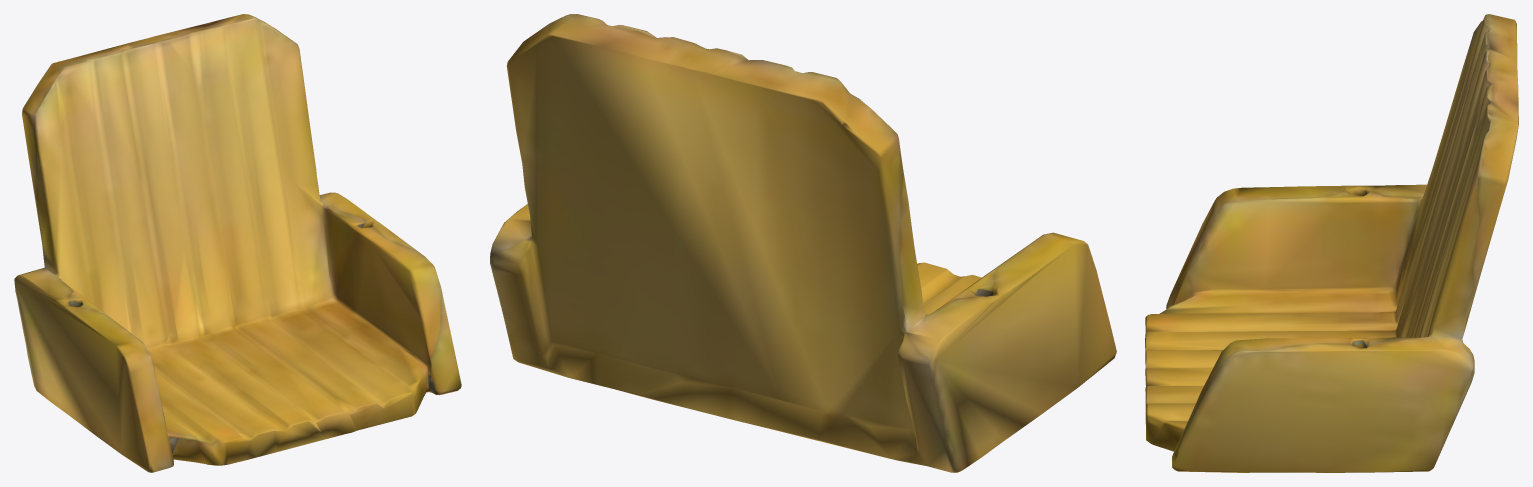
The model's file is 3D_Dollhouse_Swing-medium.glb.
3 views of the same model, side by side, from view 1: azimuth 30°, elevation 25°; view 2: azimuth 150°, elevation 25°; view 3: azimuth 270°, elevation 25° (orthographic). The views are drawn at different scales.
Parts seen in each view (by area): view 1: 3D_Dollhouse_Swing; view 2: 3D_Dollhouse_Swing; view 3: 3D_Dollhouse_Swing.
Boxes of the visible parts, x1,y1,x2,y2 form: 3D_Dollhouse_Swing: [14, 14, 461, 472]; 3D_Dollhouse_Swing: [490, 14, 1116, 472]; 3D_Dollhouse_Swing: [1145, 14, 1518, 472].
Bounding box in the file's own units: 0.1047 × 0.092 × 0.0952.
Materials: 1 (1 with a texture image).
